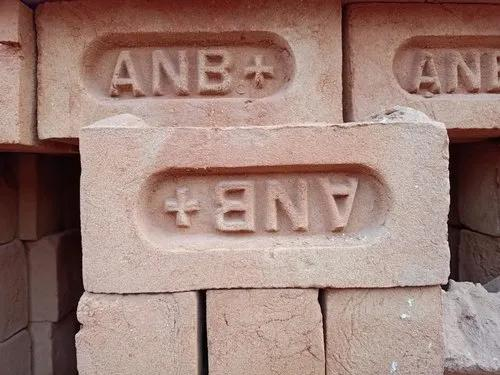brick: (81, 120, 449, 295), (38, 0, 340, 140), (353, 7, 498, 125), (76, 291, 197, 375), (328, 291, 444, 372), (208, 294, 324, 372)
